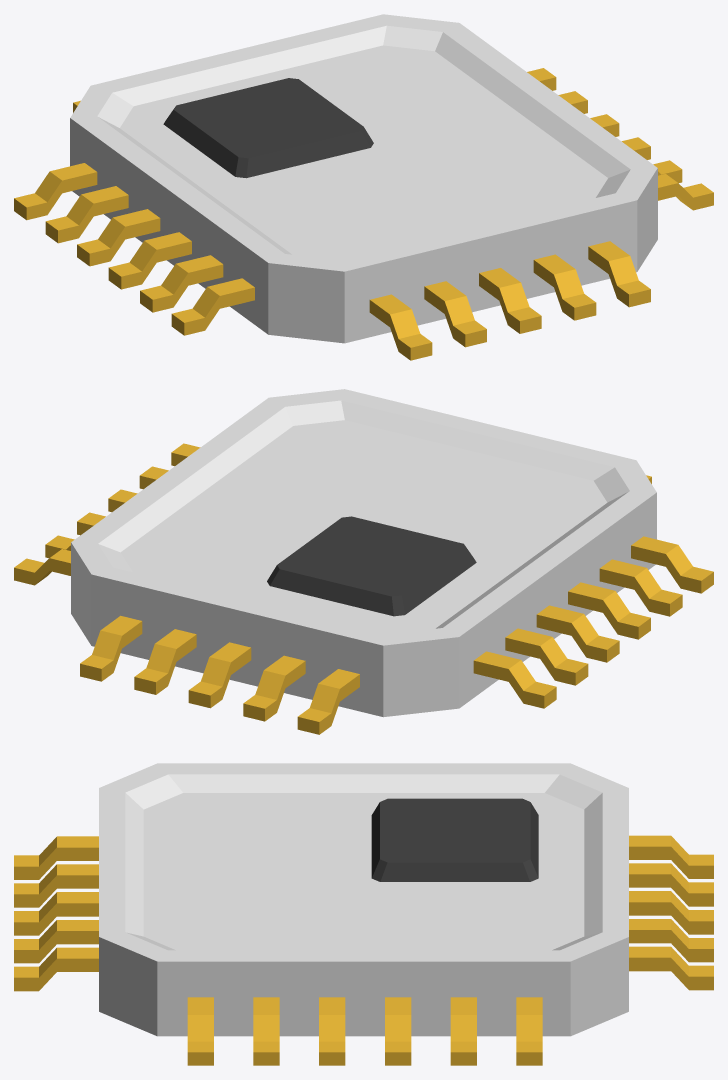
File: VolatileMemoryCell.fbx
3 views of the same model, one above another, from view 1: azimuth 30°, elevation 25°; view 2: azimuth 150°, elevation 25°; view 3: azimuth 270°, elevation 25° (orthographic). The views are drawn at different scales.
Visible parts, largest first — view 1: VolatileMemoryCell; view 2: VolatileMemoryCell; view 3: VolatileMemoryCell.
Boxes of the visible parts, left/top/right/bottom form: VolatileMemoryCell: left=14, top=14, right=713, bottom=360; VolatileMemoryCell: left=14, top=389, right=713, bottom=734; VolatileMemoryCell: left=14, top=763, right=713, bottom=1065.
Bounding box in the file's own units: 34.68 × 4.82 × 37.99.
